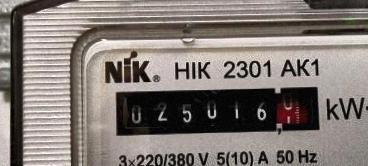0: (205, 96, 220, 120), (129, 102, 143, 124), (281, 90, 293, 110)
1: (230, 95, 242, 120), (284, 113, 292, 124)
2: (155, 98, 169, 122)
5: (180, 101, 192, 122)
6: (254, 98, 268, 123)
screen: (106, 76, 329, 142)
